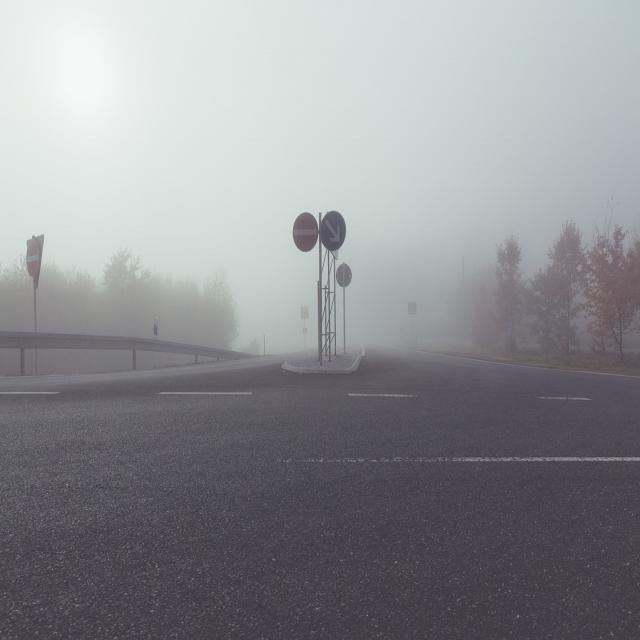no entry: (290, 213, 320, 252), (24, 237, 42, 280)
